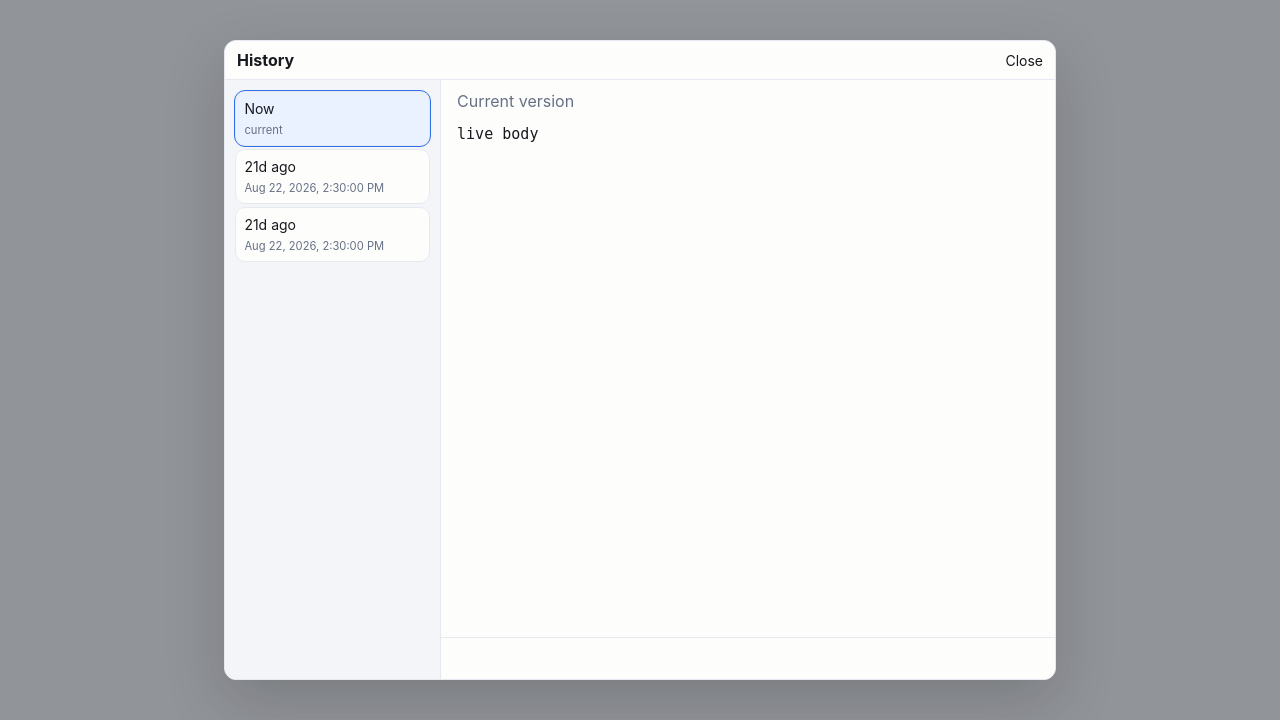
Test case: HistoryPanel › ignores a slow revision after another is selected and disables restore while loading
The image size is (1280, 720).
What coordinates should you click on to do the following:
click the button with test id "history-row" that starts with "21d ago"
I would click on:
 (332, 176)
Its box is [235, 149, 430, 204].
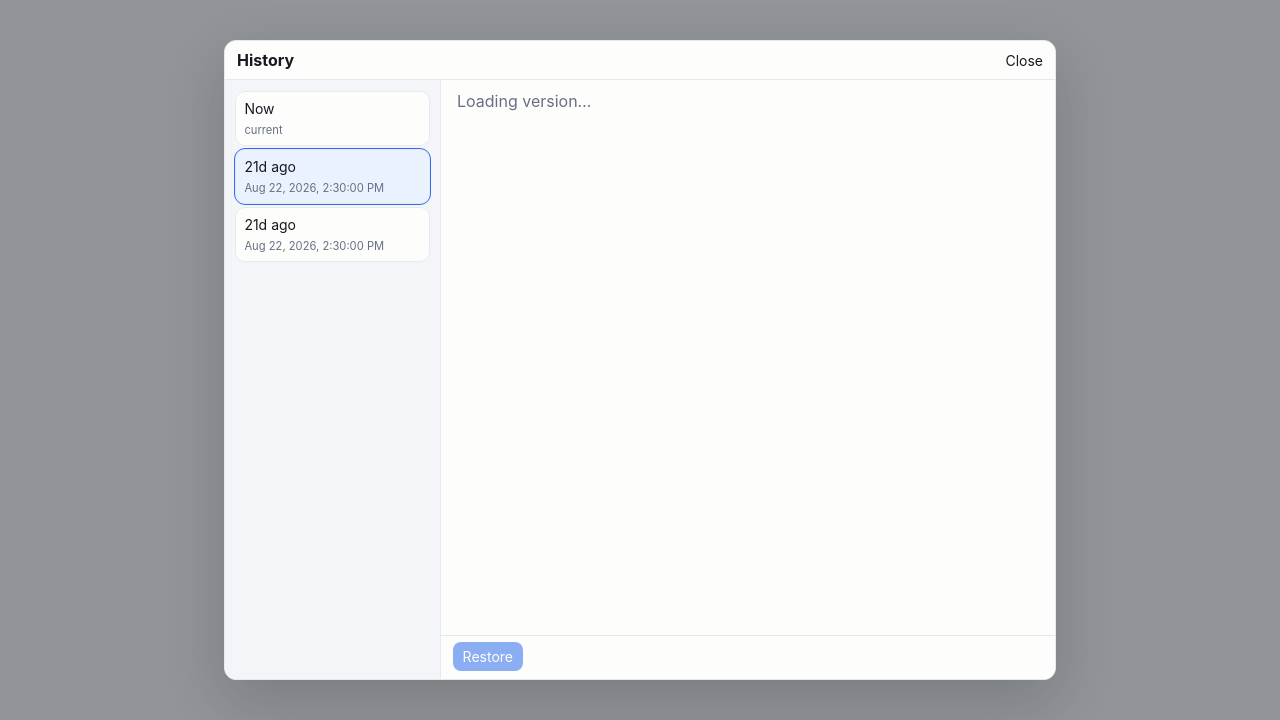
Result: the button with test id "history-restore" is disabled at [453, 642, 523, 671]
What coordinates should you click on to do the following:
click the button with test id "history-row" that starts with "21d ago"
I would click on:
 (332, 235)
Its box is [235, 207, 430, 262].
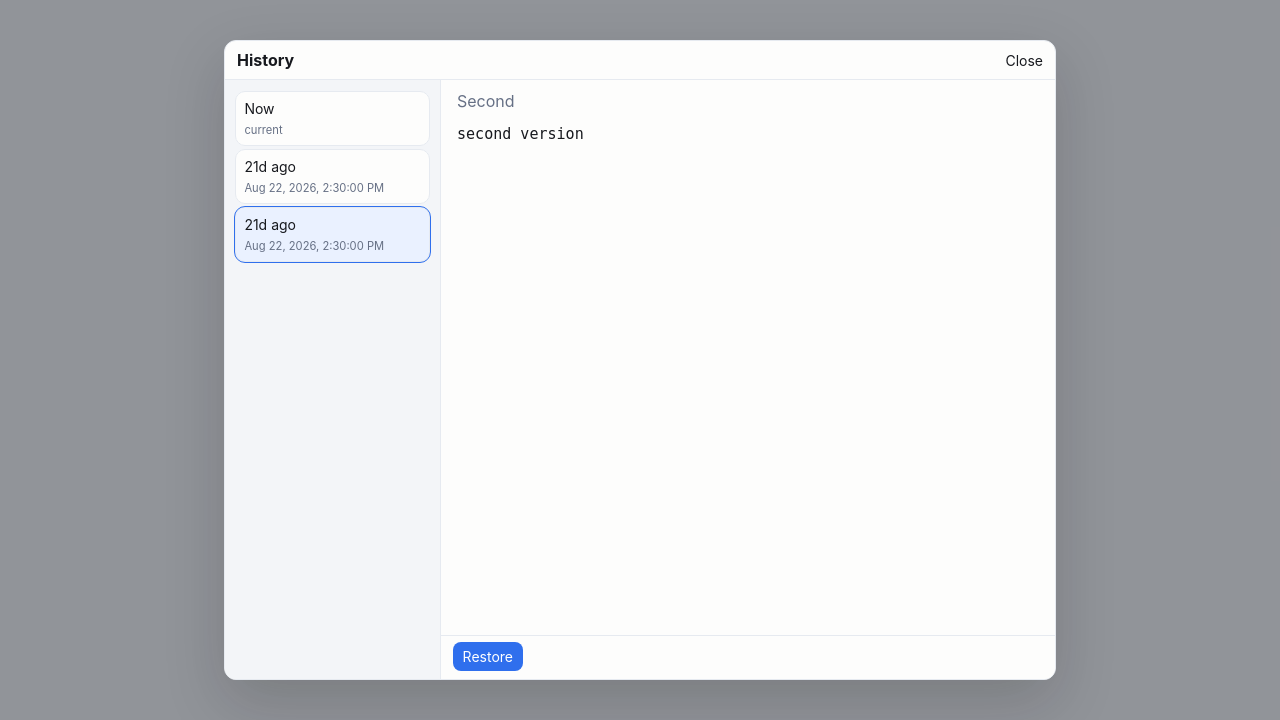
Result: the text "second version" is shown at [457, 125, 584, 143]
What coordinates should you click on to do the following:
click the button with test id "history-now"
I would click on:
 (332, 118)
Its box is [235, 91, 430, 146].
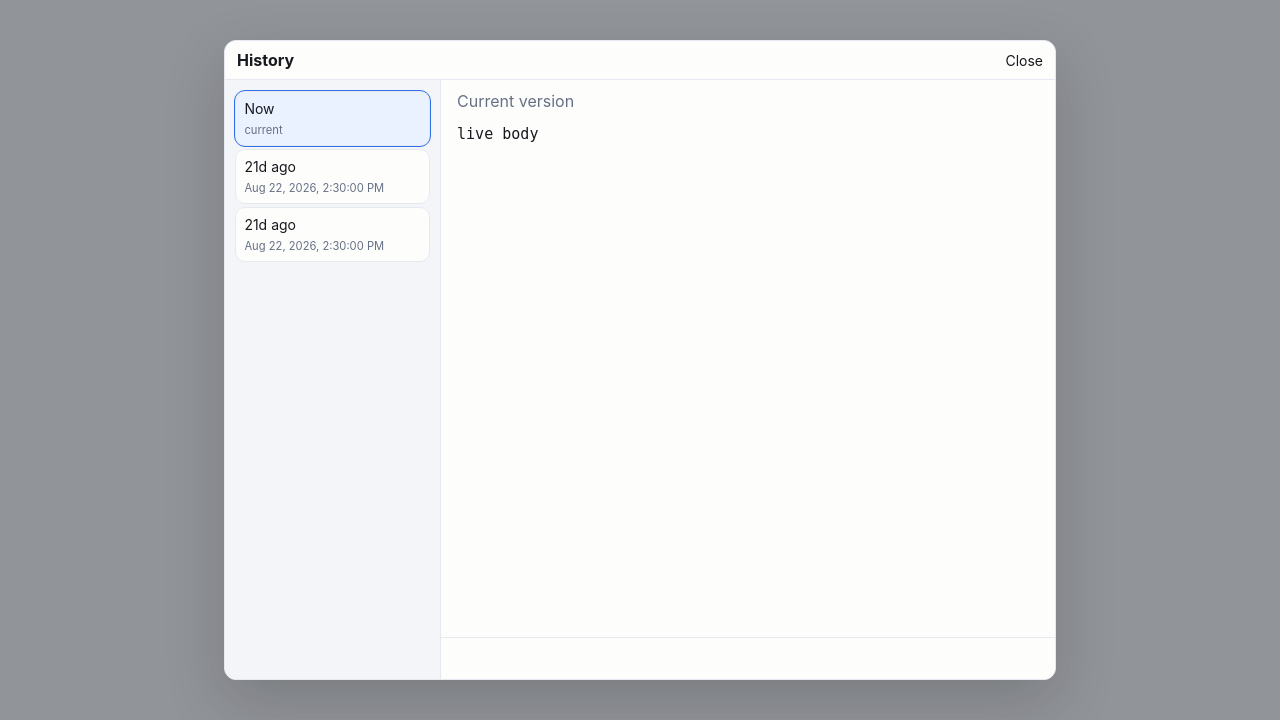
Result: the text "live body" is shown at [457, 125, 538, 143]
